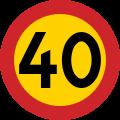Speed limit -40-: (13, 26, 106, 95)
